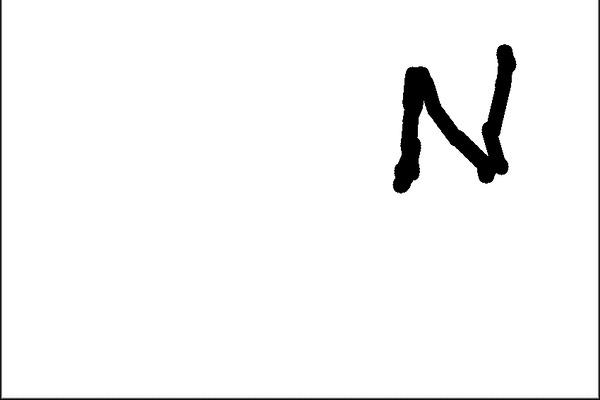N: (387, 41, 521, 197)
